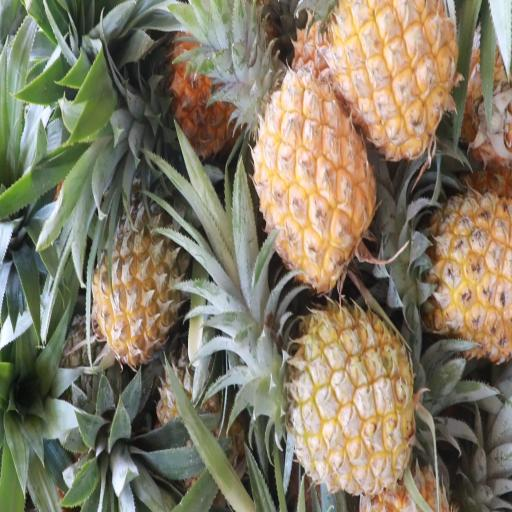Pineapple - v8 v1: (239, 65, 373, 285), (268, 283, 406, 485), (367, 177, 512, 350), (320, 0, 460, 161), (86, 165, 176, 355)
